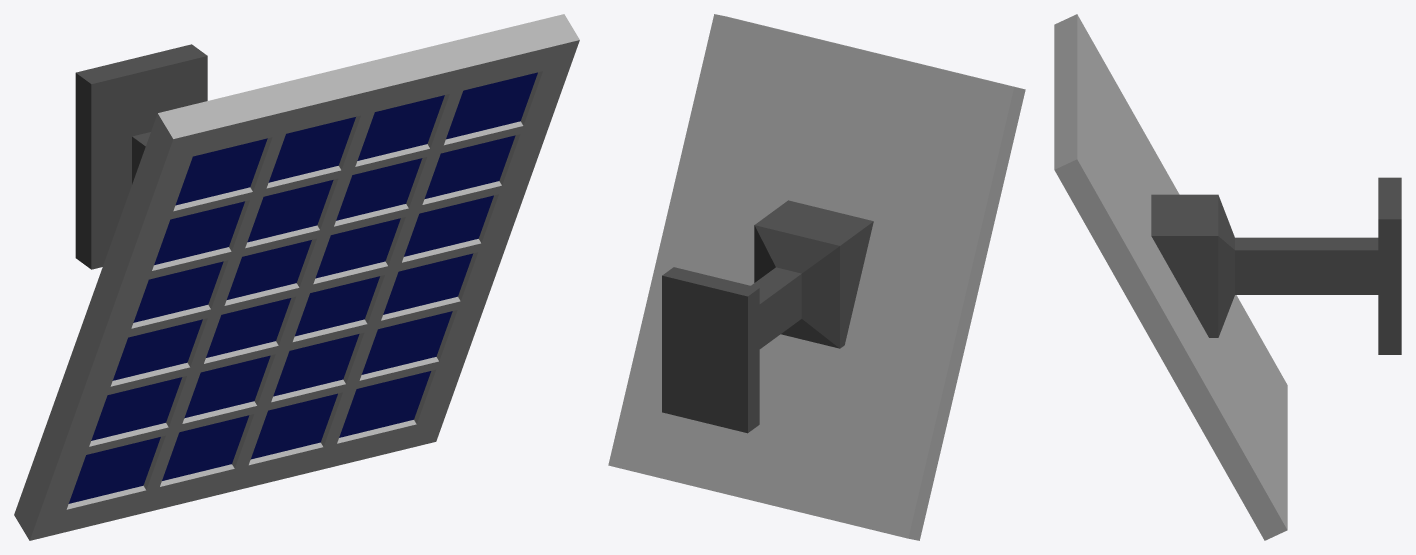
The model's file is solarpanel.obj.
The picture shows the model from 3 angles, left to right: view 1: azimuth 30°, elevation 25°; view 2: azimuth 150°, elevation 25°; view 3: azimuth 270°, elevation 25°; orthographic projection. The views are drawn at different scales.
Parts seen in each view (by area): view 1: solarpanels; view 2: solarpanels; view 3: solarpanels.
Boxes of the visible parts, x1,y1,x2,y2 form: solarpanels: (14, 14, 579, 540); solarpanels: (608, 14, 1025, 540); solarpanels: (1054, 14, 1401, 540).
Size of the model in its own units: 3.25 by 3.99 by 3.29.
